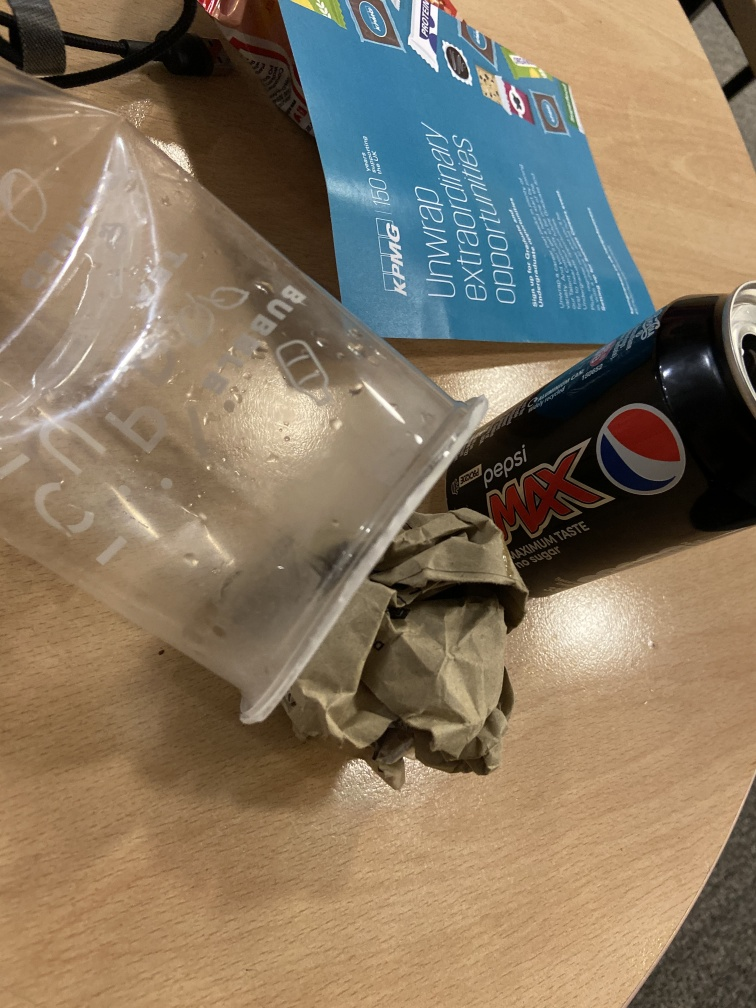can_black: (442, 278, 755, 588)
paper_brown: (282, 503, 536, 796)
